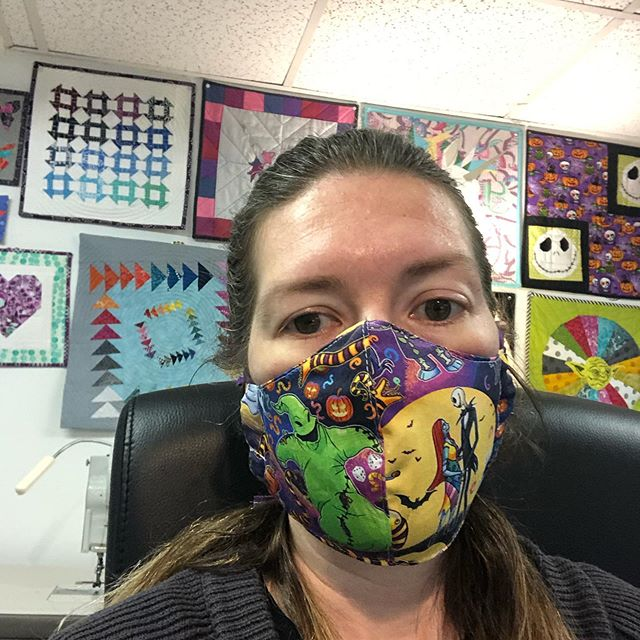homemade: (220, 318, 549, 562)
